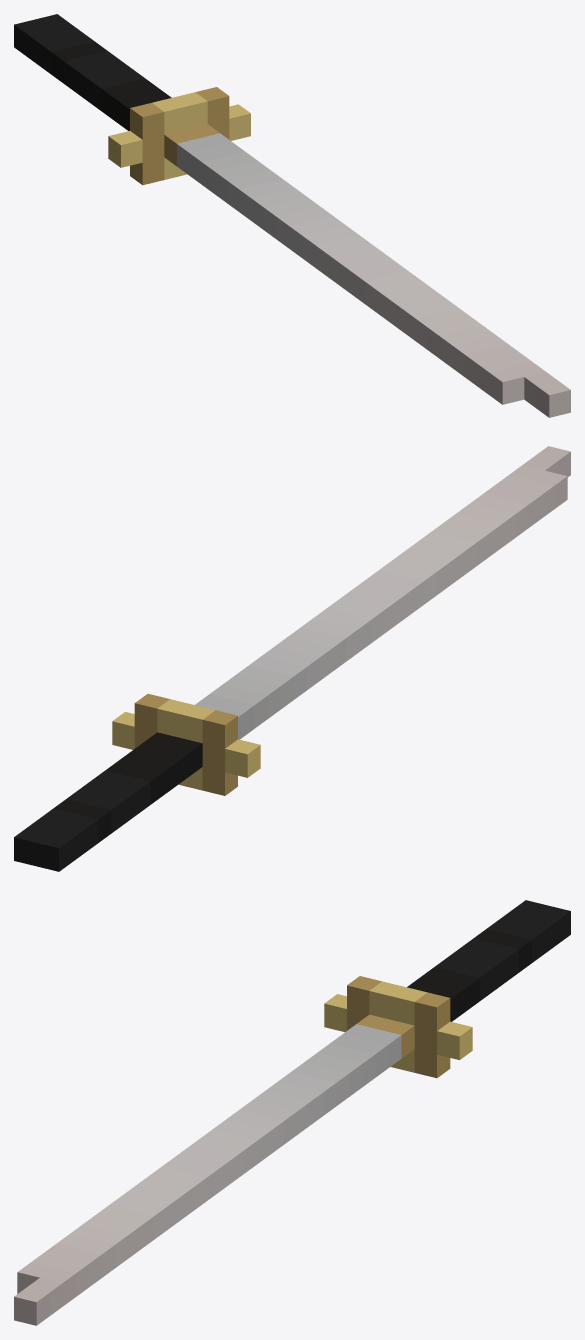
File: Weapon037.fbx
3 views of the same model, one above another, from view 1: azimuth 30°, elevation 25°; view 2: azimuth 150°, elevation 25°; view 3: azimuth 330°, elevation 25° (orthographic). The views are drawn at different scales.
Parts seen in each view (by area): view 1: Weapon037; view 2: Weapon037; view 3: Weapon037.
Part boxes in pixels (box(x1,y1,x2,y2)): Weapon037: box(14, 14, 570, 417); Weapon037: box(14, 446, 570, 871); Weapon037: box(14, 900, 570, 1325).
Size of the model in its own units: 6 by 3 by 41.
